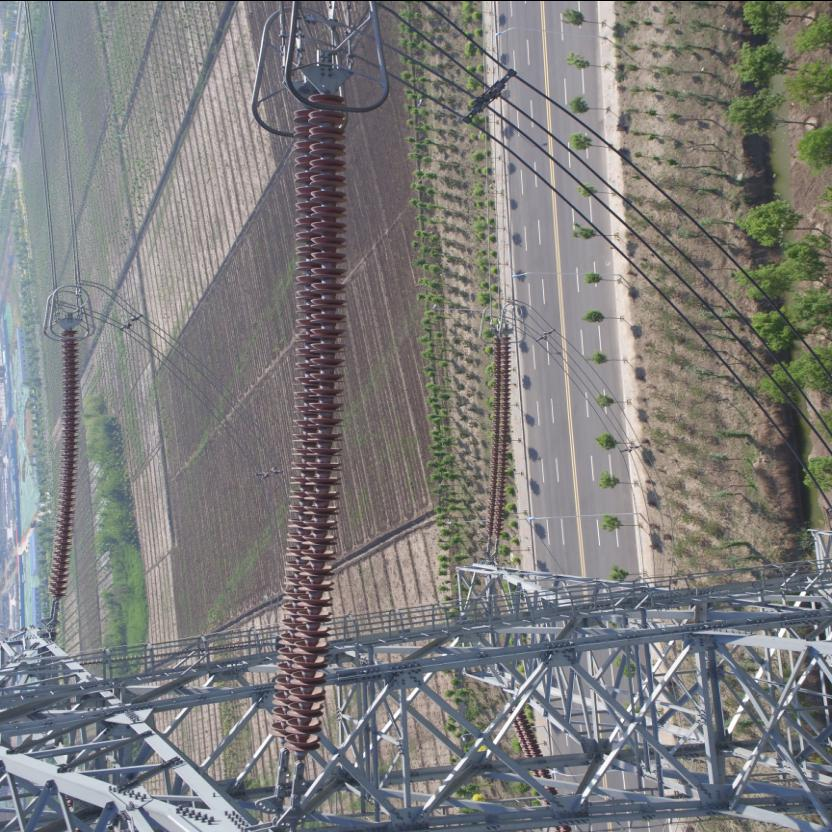insulator: (268, 77, 349, 779), (42, 322, 76, 612), (482, 330, 512, 546)
